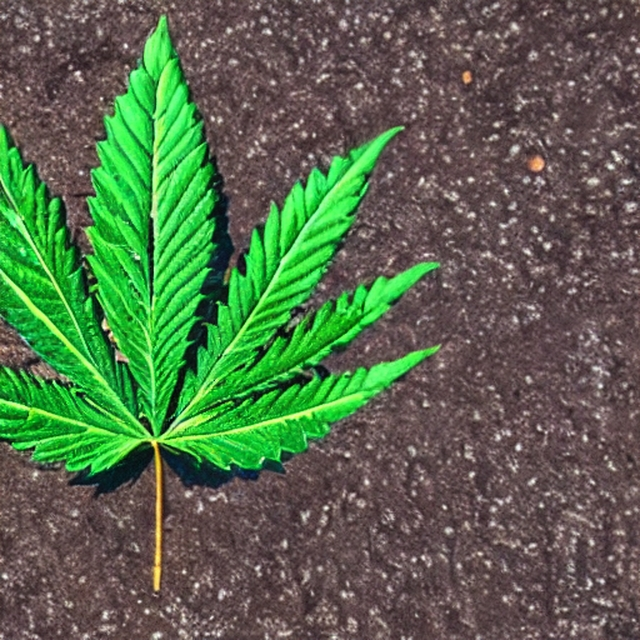Marijuana Leaf: (0, 11, 443, 591)
